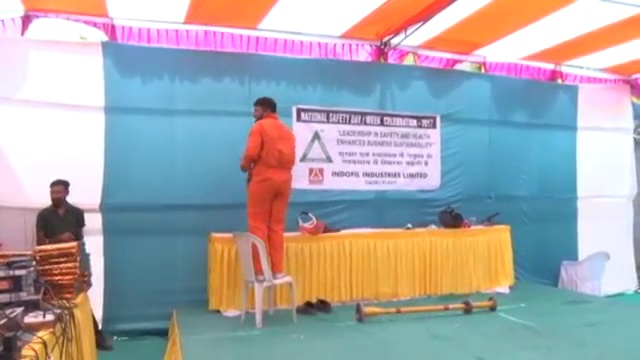helmet_off: (249, 97, 278, 124), (49, 176, 70, 207)
person: (241, 98, 298, 284), (36, 178, 89, 242)
